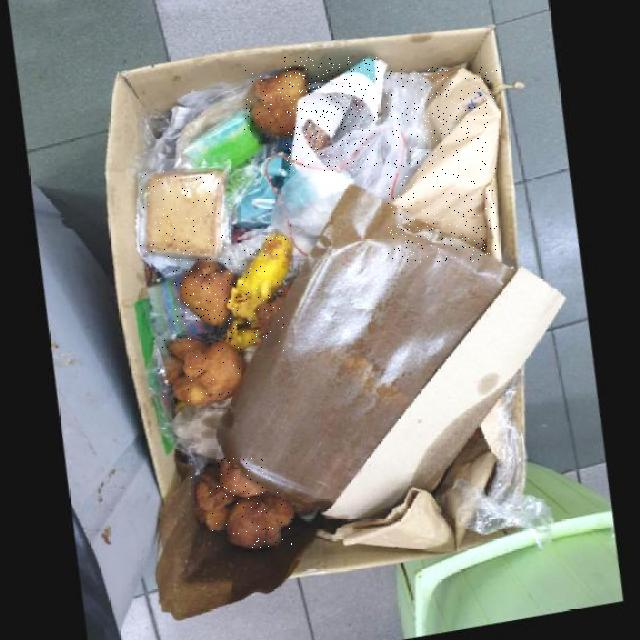biowaste: (220, 233, 287, 351), (140, 171, 219, 262), (162, 337, 240, 405), (244, 68, 301, 139), (174, 259, 233, 326), (225, 492, 292, 549), (192, 467, 236, 531), (217, 458, 264, 498)
paper: (387, 66, 497, 261), (284, 57, 379, 170)
